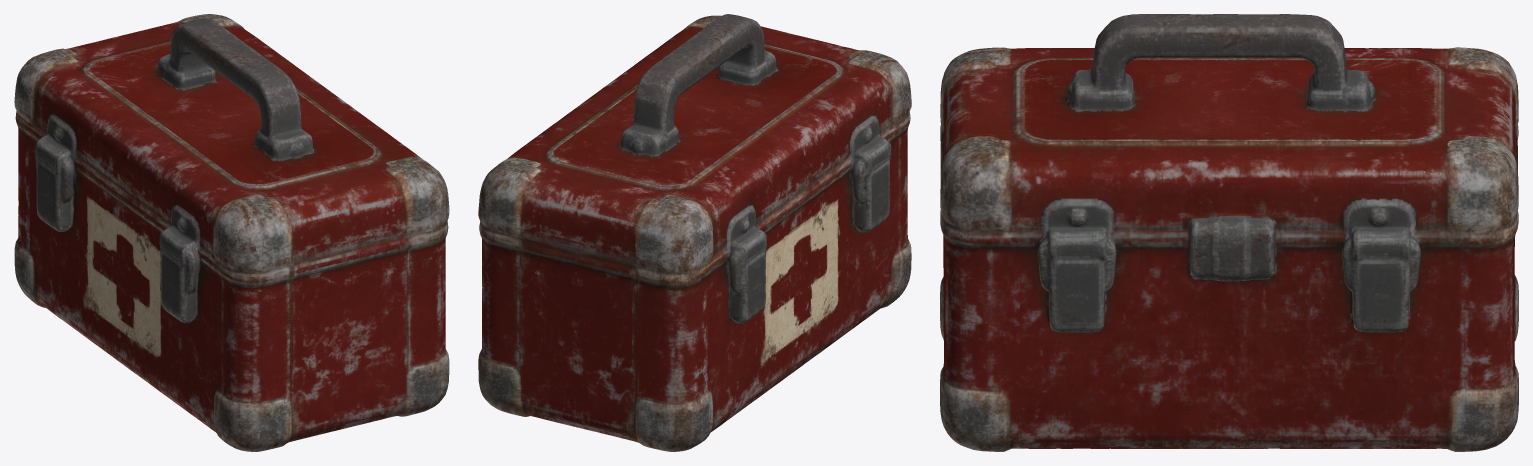
Rendered from raw.glb.
3 renders of one model, left to right at view 1: azimuth 30°, elevation 25°; view 2: azimuth 150°, elevation 25°; view 3: azimuth 270°, elevation 25°, orthographic. The views are drawn at different scales.
Size of the model in its own units: 0.6109 by 0.7273 by 1.01.
Materials: 1 (1 with a texture image).
